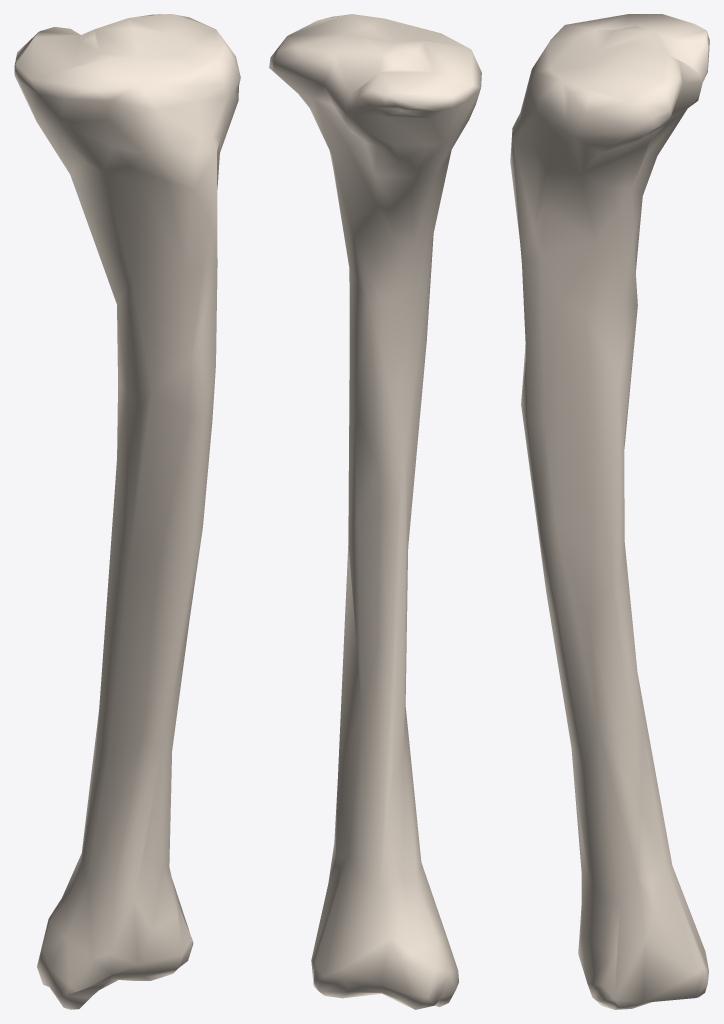
File: left_tibia.glb
The picture shows the model from 3 angles, left to right: view 1: azimuth 30°, elevation 25°; view 2: azimuth 150°, elevation 25°; view 3: azimuth 270°, elevation 25°; orthographic projection.
Parts seen in each view (by area): view 1: Tibia.r; view 2: Tibia.r; view 3: Tibia.r.
Boxes of the visible parts, <box> form: Tibia.r: <box>14,14,240,1009</box>; Tibia.r: <box>269,14,481,1009</box>; Tibia.r: <box>510,14,709,1009</box>.
Bounding box in the file's own units: 0.0451 × 0.2115 × 0.0393.
